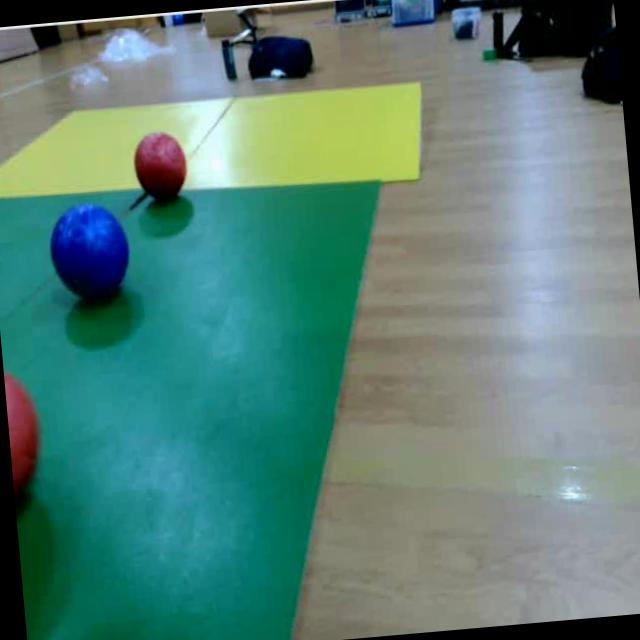blue_ball: (46, 202, 136, 312)
red_ball: (2, 364, 48, 499), (130, 128, 190, 207)
